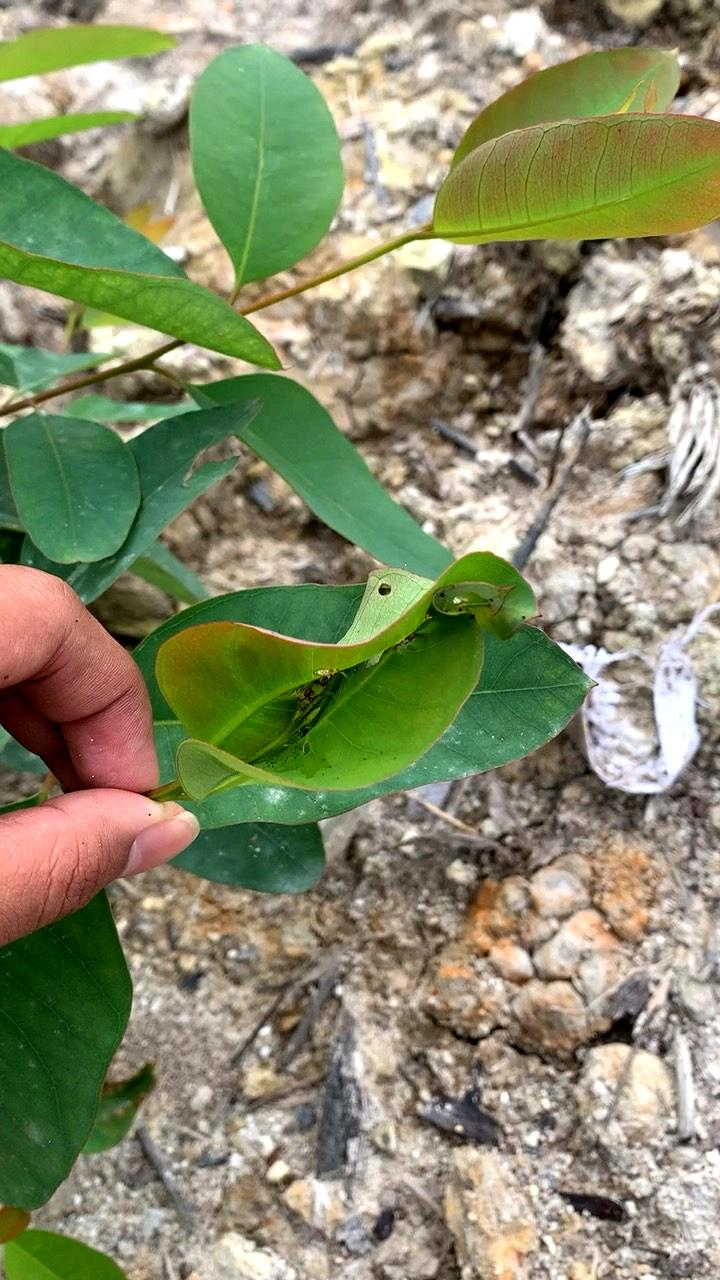Leaf Roller - Leaf: (131, 533, 563, 854)
